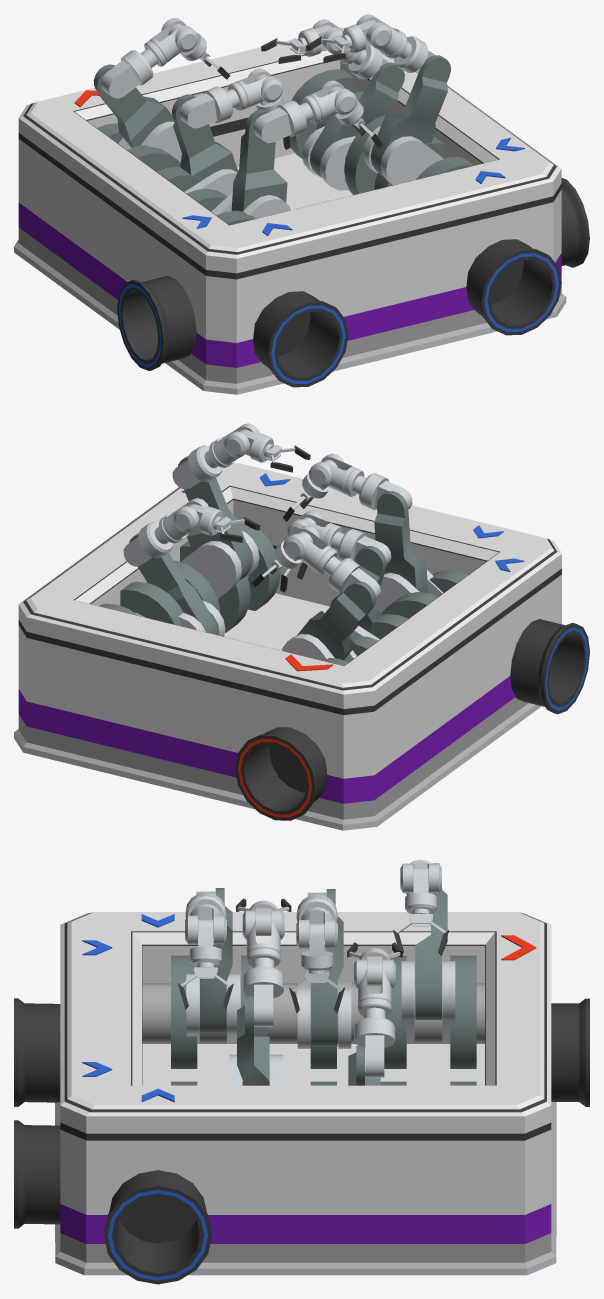
Rendered from Mechanical Assembler.fbx.
3 views of the same model, one above another, from view 1: azimuth 30°, elevation 25°; view 2: azimuth 150°, elevation 25°; view 3: azimuth 270°, elevation 25° (orthographic). The views are drawn at different scales.
Parts seen in each view (by area): view 1: Mechanical Assembler; view 2: Mechanical Assembler; view 3: Mechanical Assembler.
Part boxes in pixels (x1,y1,x2,y2): Mechanical Assembler: (14, 14, 589, 394); Mechanical Assembler: (14, 423, 589, 830); Mechanical Assembler: (14, 859, 589, 1284).
Bounding box in the file's own units: 200 × 114 × 200.
